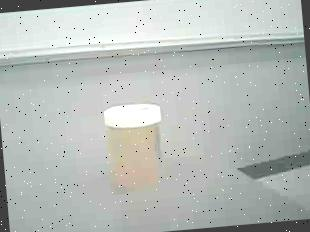Bottle B: (92, 94, 180, 202)
